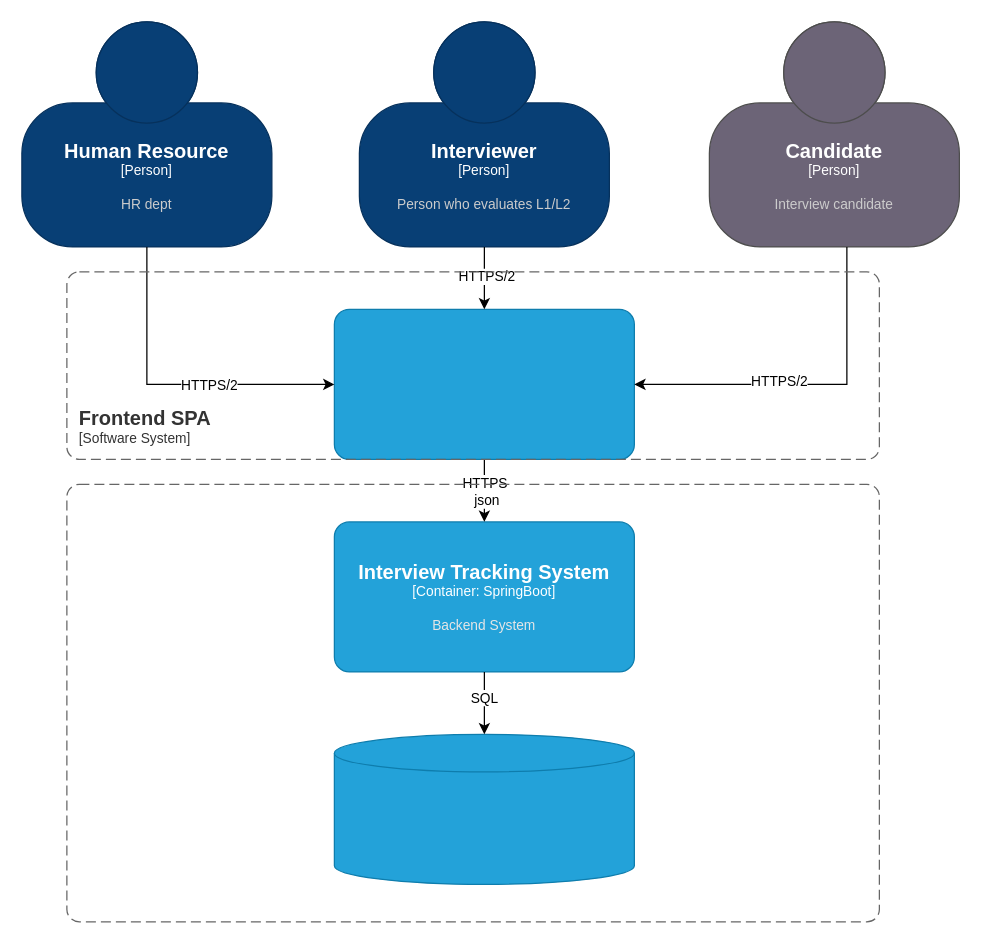
This 981x944 diagram has some shape labels left out. The shapes that lost their labels are listed below. From the top down, each one's box as (x1, y1, x2, y2) in pixels, then its label:
(333, 308, 634, 459): Interview Tracking SPA [Container: React] Frontend system
(66, 483, 879, 922): ITS [Software System]
(333, 733, 634, 884): Database [Container: e.g. Postgres] Storage container
